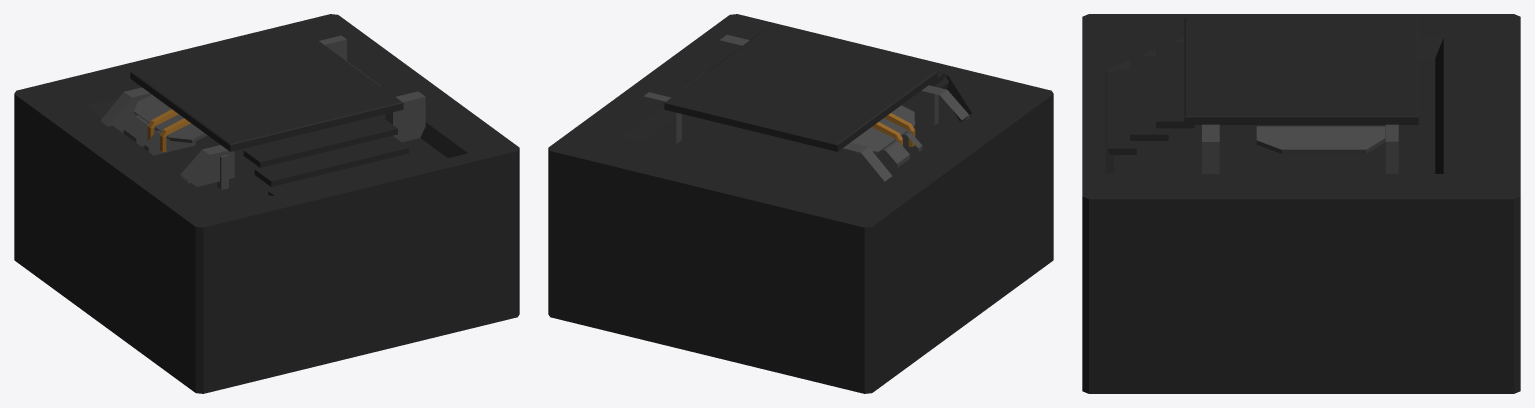
The model's file is empbase.glb.
3 views of the same model, side by side, from view 1: azimuth 30°, elevation 25°; view 2: azimuth 150°, elevation 25°; view 3: azimuth 270°, elevation 25° (orthographic). The views are drawn at different scales.
Visible parts, largest first — view 1: empbase; view 2: empbase; view 3: empbase.
Part boxes in pixels (bbox=[...]): empbase: bbox=[14, 14, 519, 393]; empbase: bbox=[548, 14, 1053, 393]; empbase: bbox=[1082, 14, 1520, 393].
Size of the model in its own units: 100 by 59.06 by 100.
Materials: 1 (1 with a texture image).
